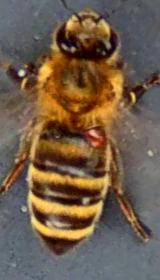varroa_mite: (73, 116, 120, 154)
